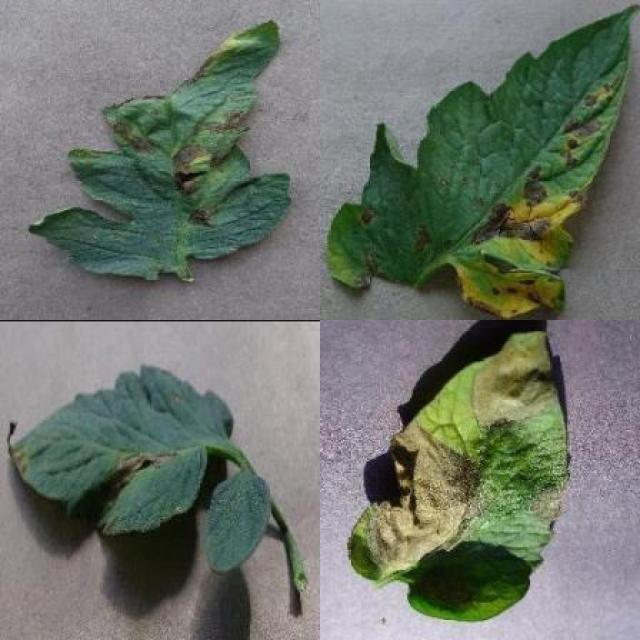Early Blight: (328, 5, 640, 320), (26, 20, 293, 283), (8, 361, 232, 536)
Healthy: (204, 472, 274, 572)
Late Blight: (346, 328, 571, 623)
